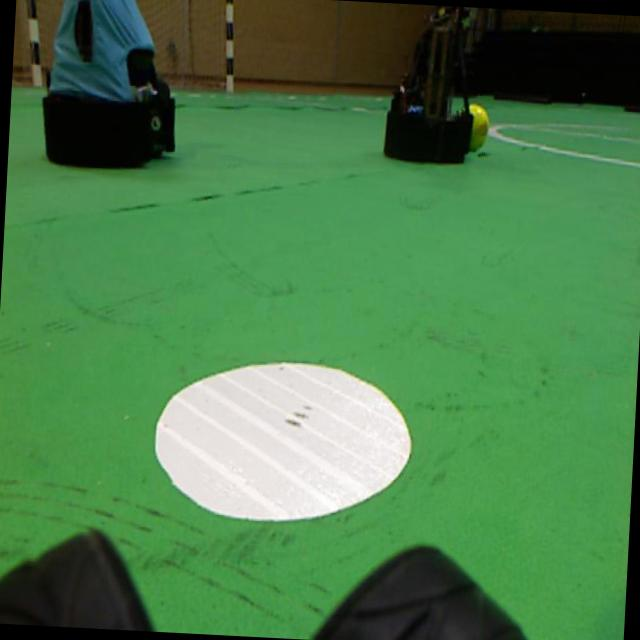ball: (469, 104, 489, 151)
robot: (384, 6, 472, 162)
